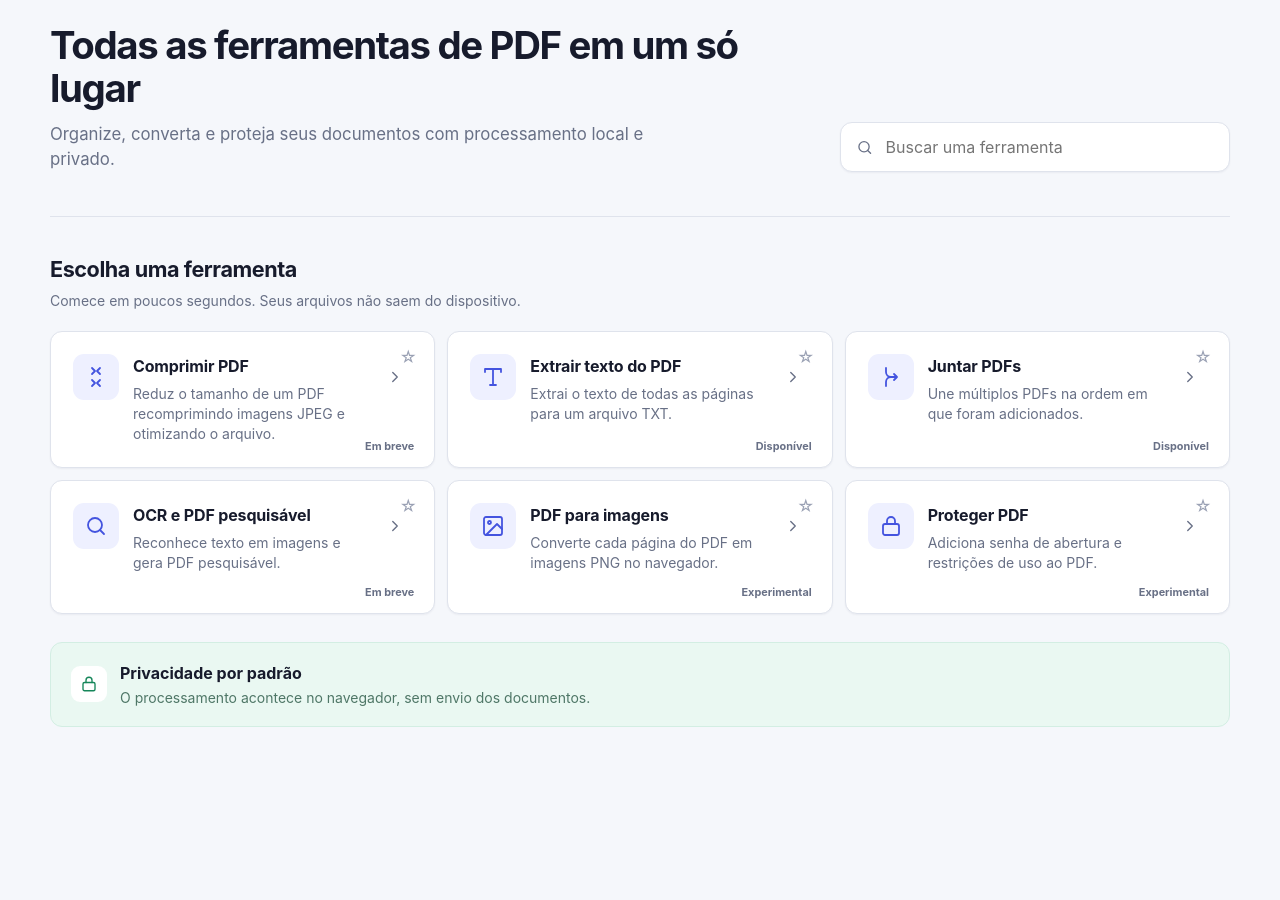
Test: HomeView › mostra mensagem quando a busca não encontra nada
This screenshot has width=1280, height=900.
Type "zzz" into the search field named "Buscar ferramenta" at (1049, 147), box [884,134,1214,160]
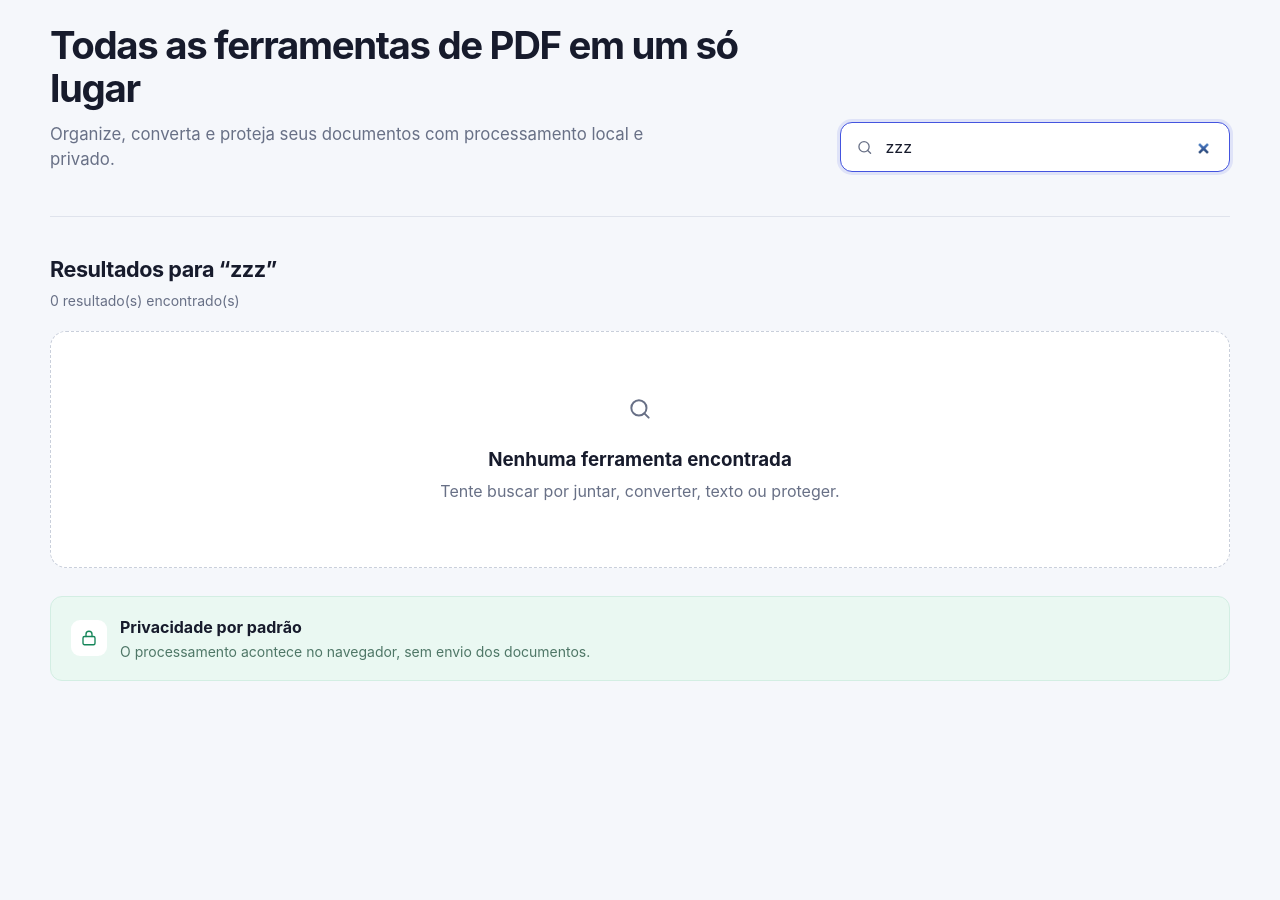
Check: the heading "Nenhuma ferramenta encontrada" is shown, box [488,448,792,472]
